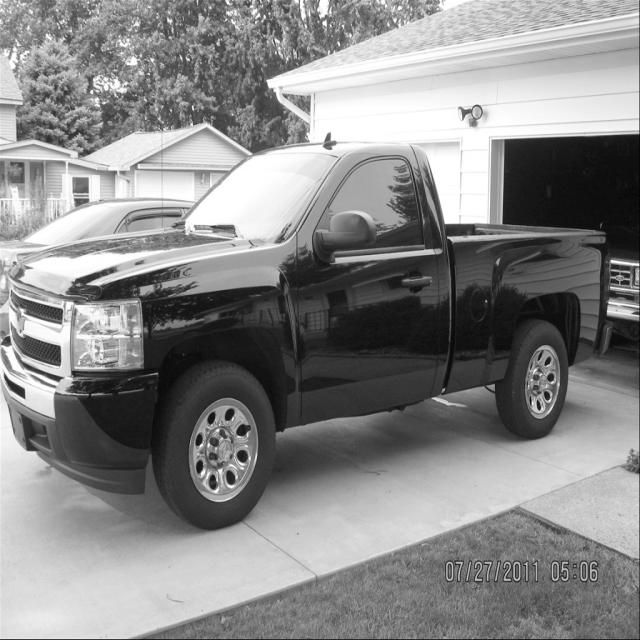car: (0, 132, 614, 530), (0, 197, 196, 343)
